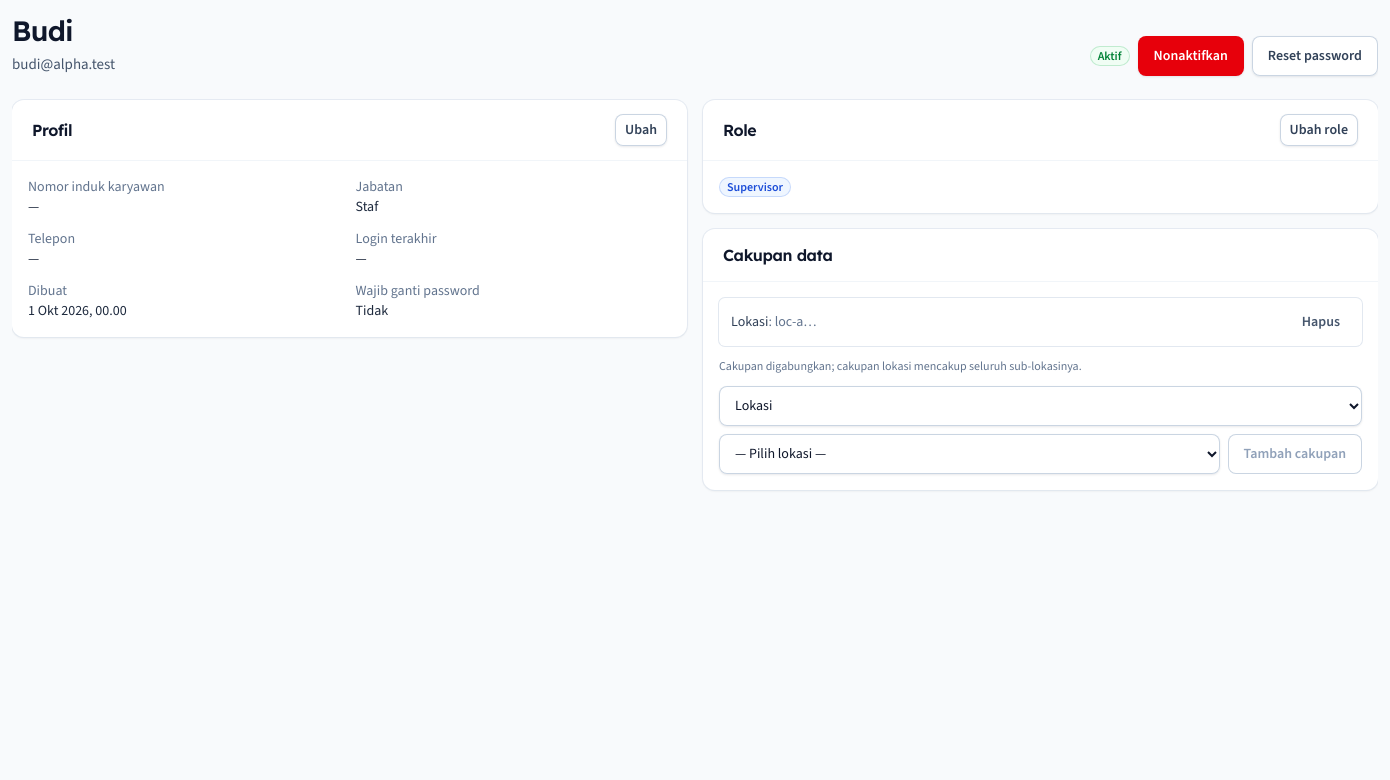
Test: UserDetailPage: rejected access changes › shows the new scope and no error when the change is allowed
The width and height of the screenshot is (1390, 780).
Expected: the heading "Cakupan data" is shown, [723, 243, 832, 267]
Select "Seluruh organisasi" in the dropdown named "Jenis cakupan" at (1040, 406), box [719, 386, 1362, 426]
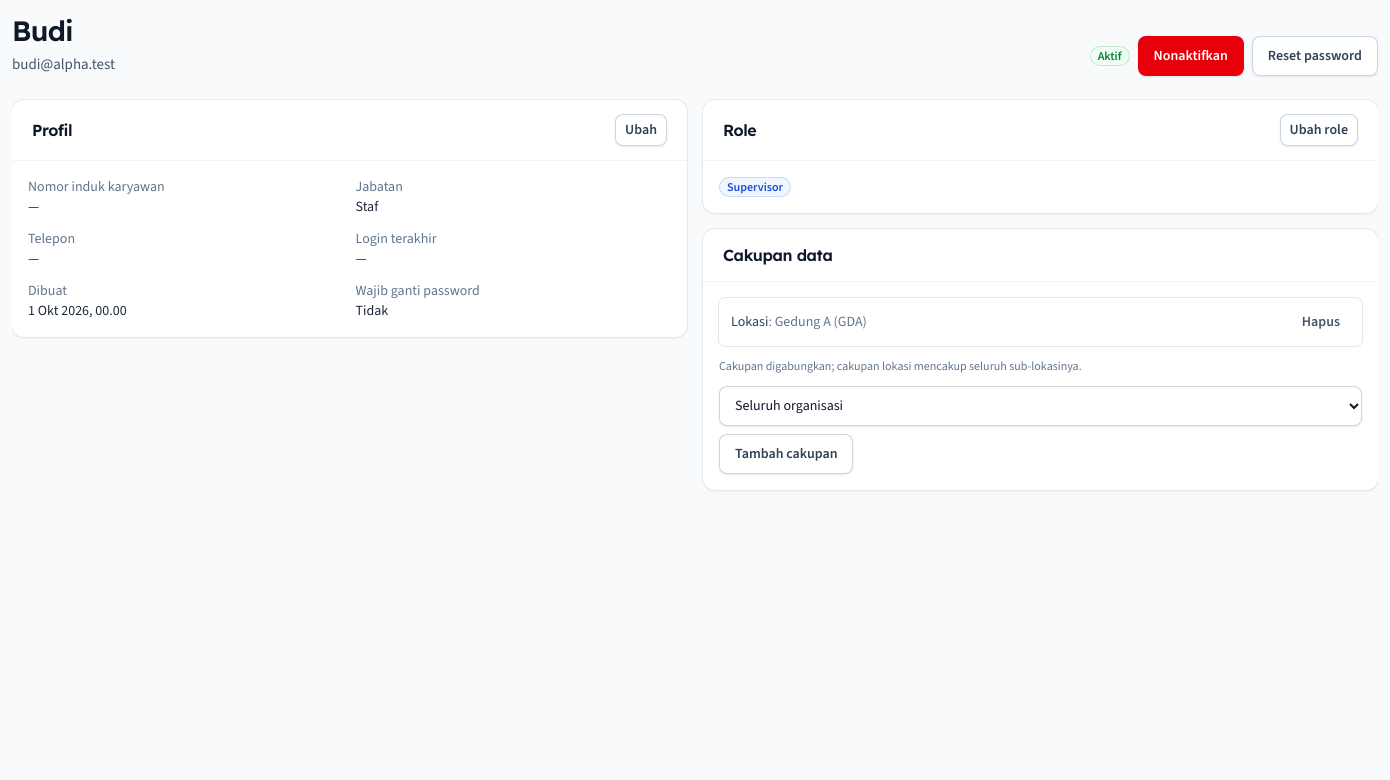
Click the button "Tambah cakupan".
click(786, 454)  # box [719, 434, 854, 474]
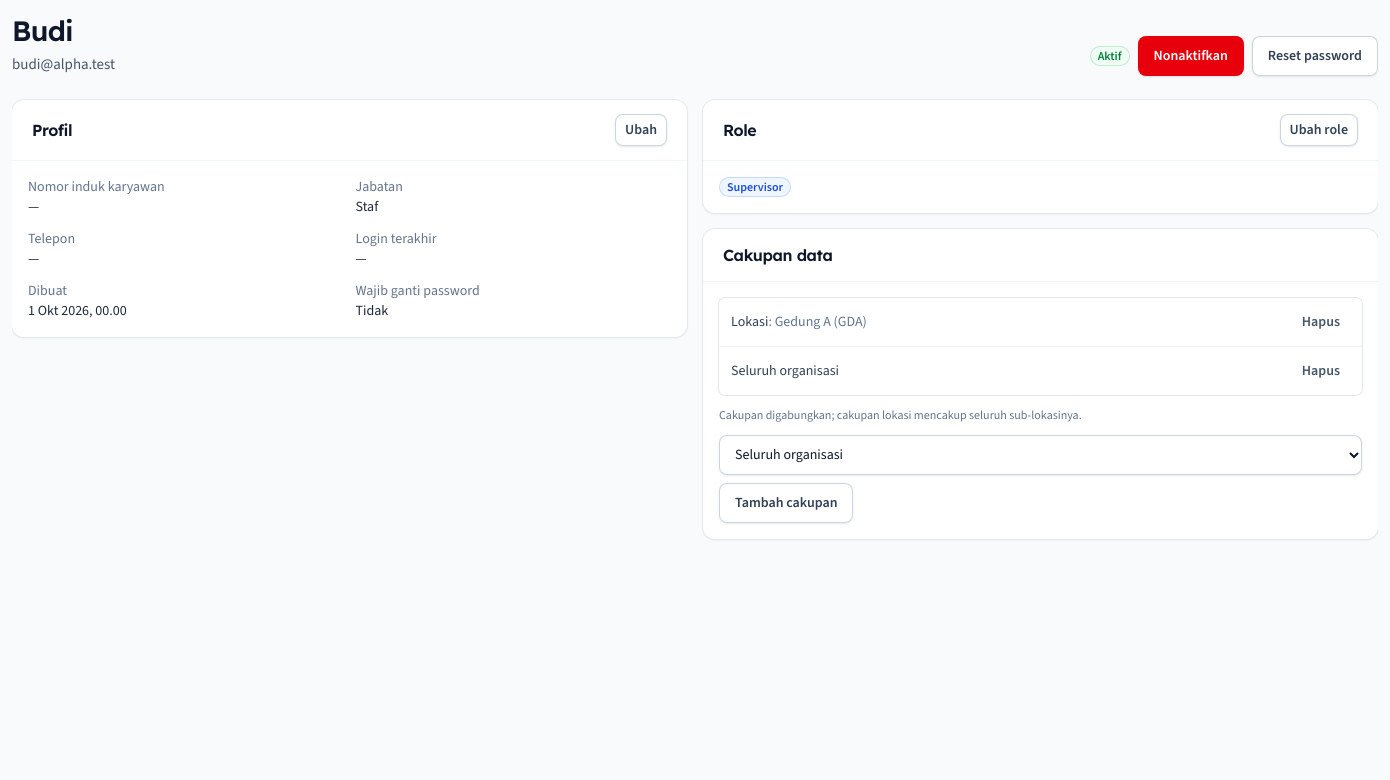
Result: the text "Seluruh organisasi" is shown at [731, 361, 839, 381]
